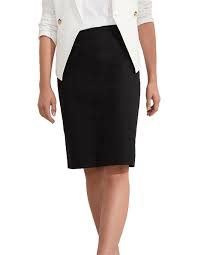F_tailored skirt: (51, 21, 151, 174)
